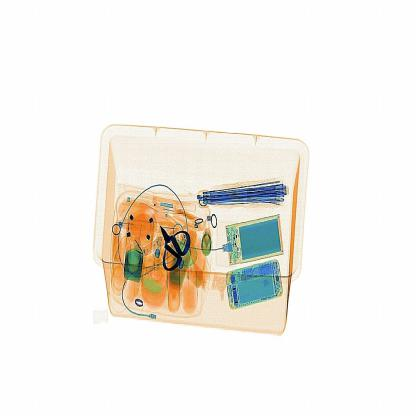gun: (155, 223, 201, 271)
